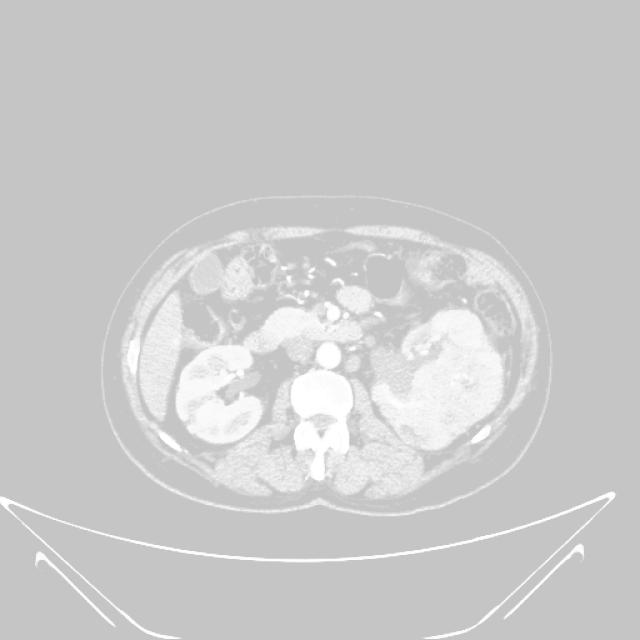TUMOR: (121, 257, 469, 452)
